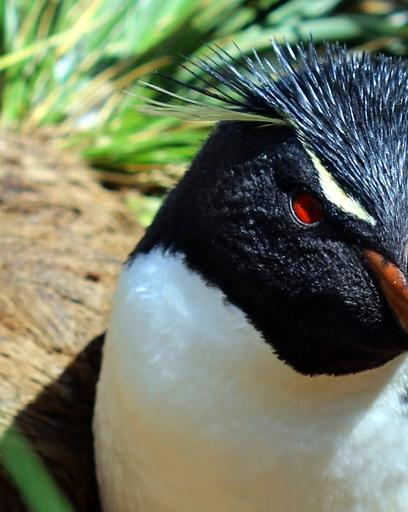Southern Rockhopper Penguin: (66, 14, 408, 512)
